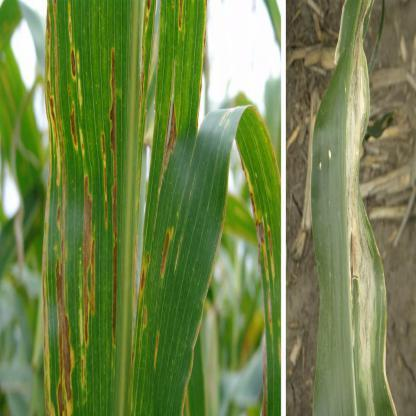Corn leaf blight: (154, 1, 282, 415), (42, 4, 133, 415), (307, 9, 399, 414)
